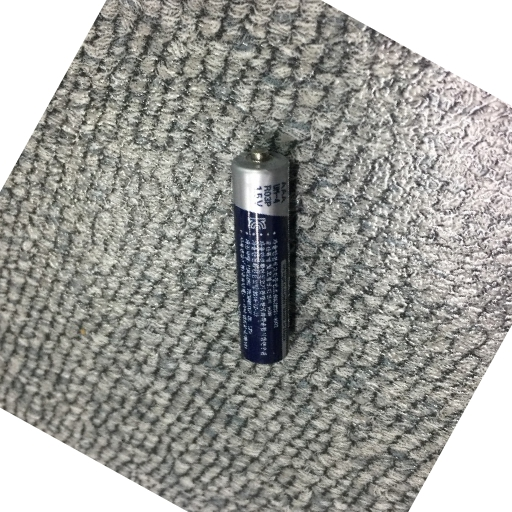Battery_0: (226, 133, 302, 371)
